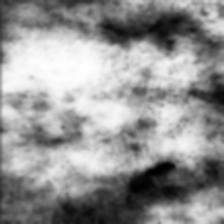Potentially Malignant Skin Tumors: (119, 146, 184, 203), (110, 13, 198, 46), (200, 83, 224, 109)
